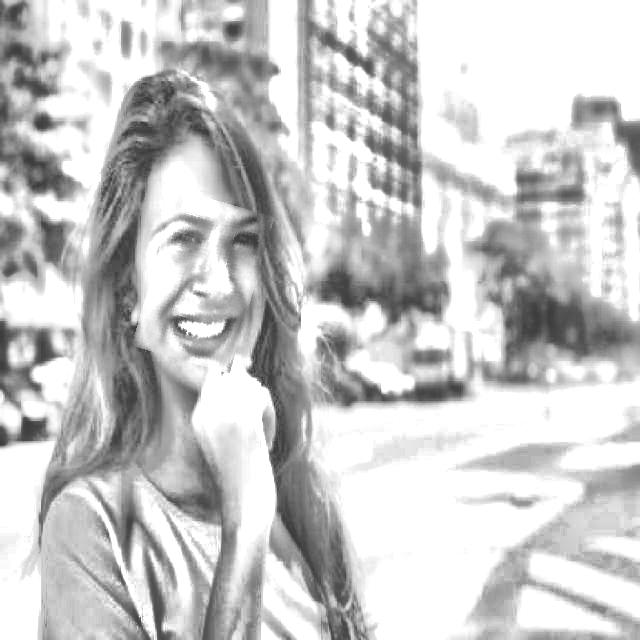happy: (142, 195, 264, 368)
